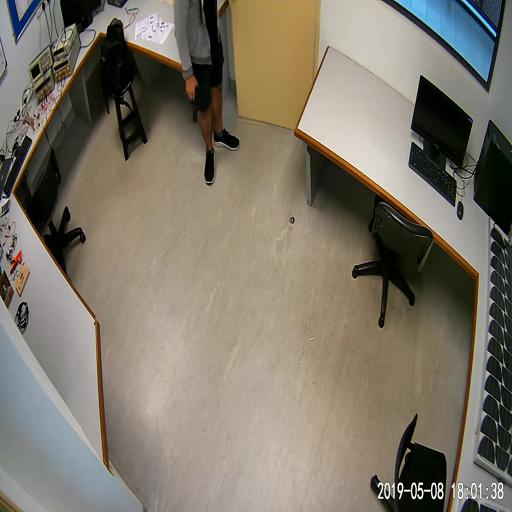pistol: (188, 83, 200, 123)
